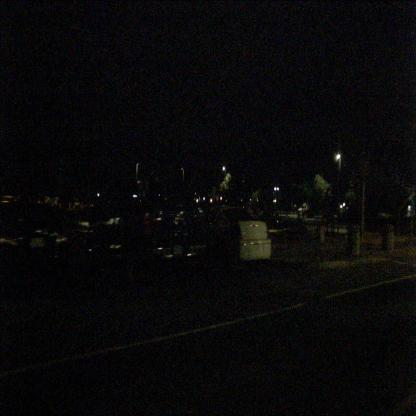vehicle-car: (198, 206, 272, 265)
